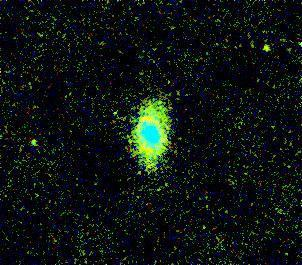star: (21, 123, 51, 153)
